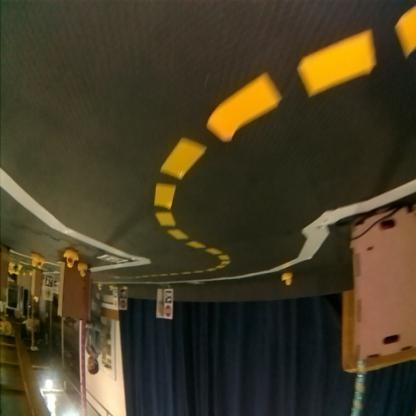Duckie: (66, 250, 80, 268), (282, 273, 294, 286), (80, 264, 88, 278), (38, 260, 44, 268), (34, 296, 38, 300)
QR code: (98, 256, 124, 264), (120, 286, 128, 298), (165, 291, 172, 304)
Stop sign: (166, 306, 174, 320), (121, 300, 127, 310)
